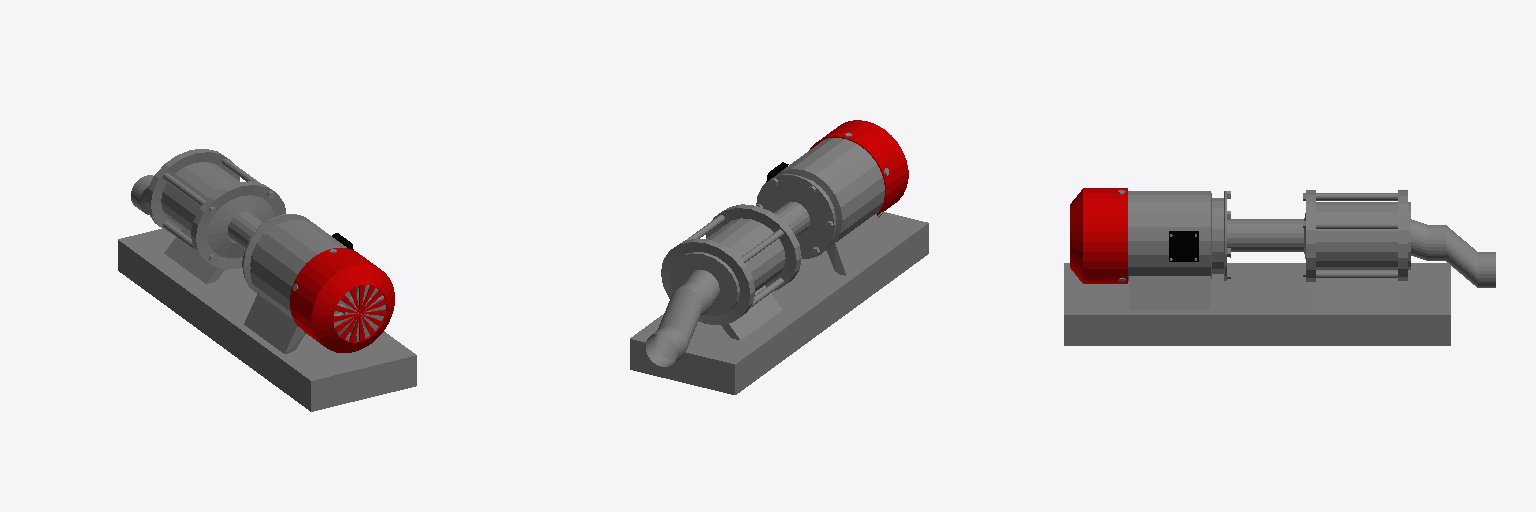
Rendered from vodnapompa.obj.
3 renders of one model, left to right at view 1: azimuth 30°, elevation 25°; view 2: azimuth 150°, elevation 25°; view 3: azimuth 270°, elevation 25°, orthographic.
Visible parts, largest first — view 1: Cube.003_Cube.002, Cylinder.002, Cylinder, Circle.030, Cylinder.001; view 2: Cube.003_Cube.002, Cylinder, Cylinder.002, Cylinder.008_Cylinder.009, Circle.030, Cylinder.001; view 3: Cube.003_Cube.002, Cylinder, Cylinder.002, Circle.030, Cylinder.008_Cylinder.009, Cylinder.001, Cube.004, Cylinder.004, Cylinder.006, Cylinder.003.
Boxes of the visible parts, <box> form: Cube.003_Cube.002: <box>118,229,416,411</box>; Cylinder.002: <box>146,149,285,283</box>; Cylinder: <box>242,214,385,353</box>; Circle.030: <box>290,248,394,352</box>; Cylinder.001: <box>228,212,262,249</box>; Cube.003_Cube.002: <box>630,212,928,394</box>; Cylinder: <box>756,138,886,275</box>; Cylinder.002: <box>661,204,801,339</box>; Cylinder.008_Cylinder.009: <box>646,270,719,366</box>; Circle.030: <box>809,120,908,215</box>; Cylinder.001: <box>774,202,809,236</box>; Cube.003_Cube.002: <box>1064,263,1450,345</box>; Cylinder: <box>1128,191,1226,309</box>; Cylinder.002: <box>1304,190,1410,306</box>; Circle.030: <box>1070,188,1127,283</box>; Cylinder.008_Cylinder.009: <box>1411,219,1495,287</box>; Cylinder.001: <box>1227,219,1303,251</box>; Cube.004: <box>1169,231,1198,261</box>; Cylinder.004: <box>1316,193,1397,200</box>; Cylinder.006: <box>1316,271,1397,277</box>; Cylinder.003: <box>1316,222,1397,228</box>.
Bounding box in the file's own units: 2.68 × 3.1 × 9.48.